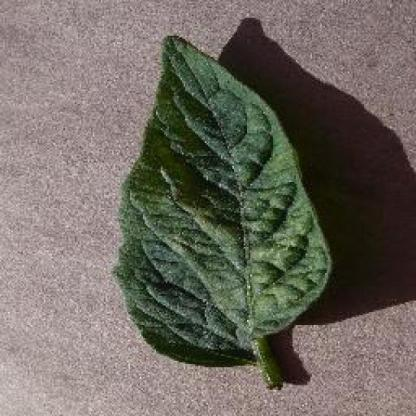Tomato_Spider_Mites: (116, 35, 331, 363)
